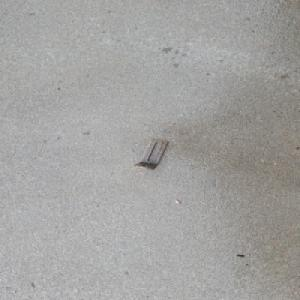MetalPart: (132, 138, 169, 169)
